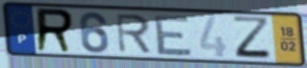4: (197, 14, 231, 60)
6: (77, 10, 111, 55)
E: (153, 14, 195, 57)
R: (34, 7, 76, 55), (114, 12, 154, 54)
Z: (230, 15, 275, 62)
